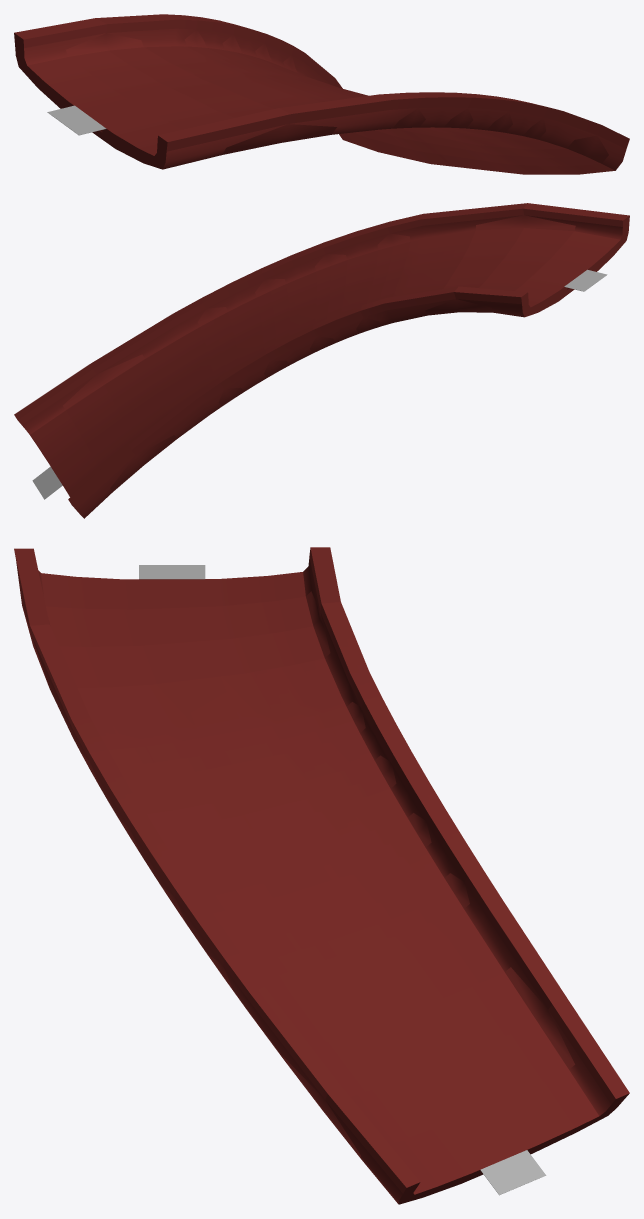
Rendered from 45DownLeft.fbx.
3 renders of one model, top to bottom at view 1: azimuth 30°, elevation 25°; view 2: azimuth 150°, elevation 25°; view 3: azimuth 270°, elevation 25°, orthographic. The views are drawn at different scales.
Visible parts, largest first — view 1: pPipe3, pasted__pasted__pCube3; view 2: pPipe3, pasted__pasted__pCube43, pasted__pasted__pCube3; view 3: pPipe3, pasted__pasted__pCube43, pasted__pasted__pCube3.
Part boxes in pixels (x1,y1,x2,y2): pPipe3: (14,14,629,174); pasted__pasted__pCube3: (47,105,106,135); pPipe3: (14,203,629,518); pasted__pasted__pCube43: (32,466,62,499); pasted__pasted__pCube3: (564,269,607,291); pPipe3: (14,547,629,1204); pasted__pasted__pCube43: (480,1150,545,1195); pasted__pasted__pCube3: (139,565,205,579).
Size of the model in its own units: 24.81 by 11.63 by 18.58.
